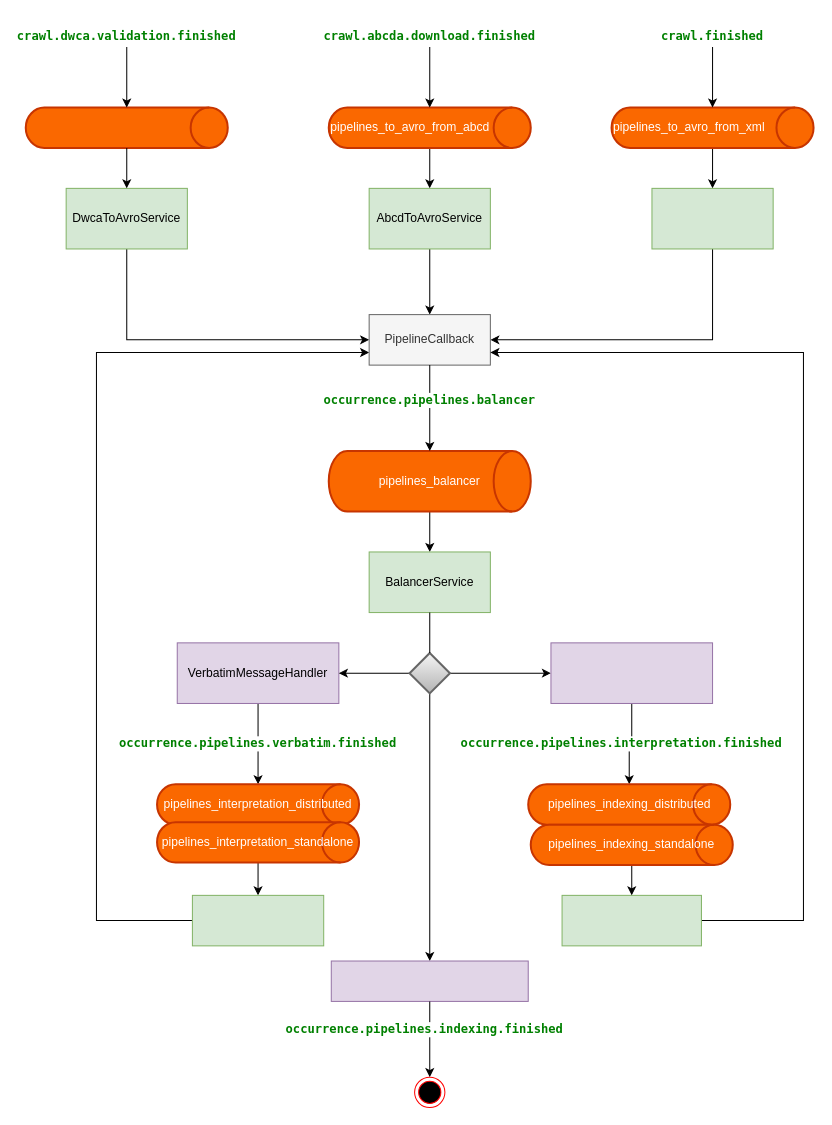
Some shapes in this 832 by 1125 pixel diagram are drawn without their labels. Here are the shapes that lost their labels. From the top down, the centre of each, then its label:
At (126,127): "pipelines_to_avro_from_dwca".
At (712,218): "XmlToAvroService".
At (631,672): "InterpretedMessageHandler".
At (257,920): "InterpretationService".
At (631,920): "IndexingService".
At (429,980): "PipelinesIndexedMessageHandler".
